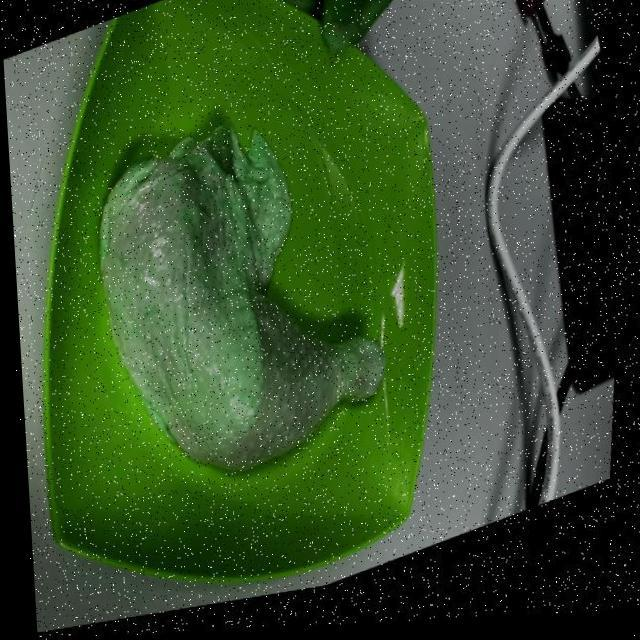quater: (96, 141, 393, 464)
